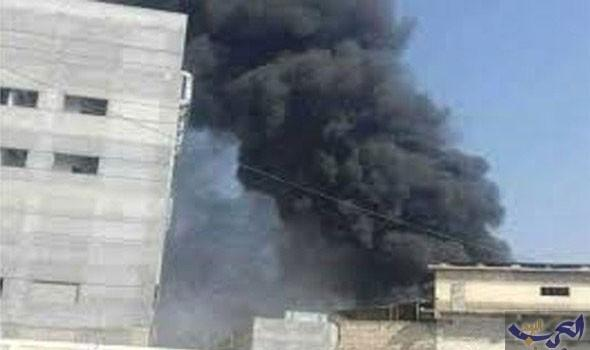smoke: (188, 0, 392, 135), (252, 142, 486, 234)
